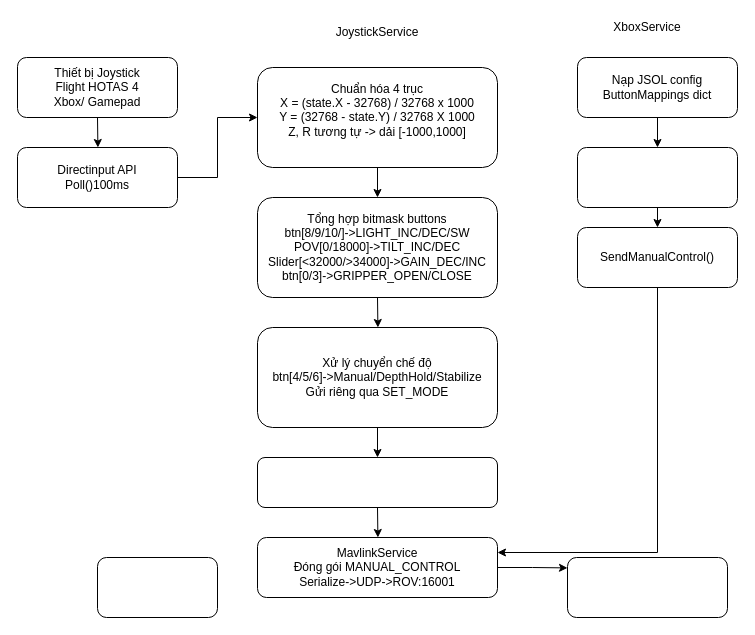
This 755x635 diagram has some shape labels left out. The centre of each missing label's shape, as x and y in pixels:
"Chu kỳ 100ms =10 Hz polling" goes at point 157,587.
"ROV control_loop() ->mixing matrix ->ESC / PWM" goes at point 647,587.
"SendManualControl()+SendSetModel()" goes at point 377,482.
"Tra cứu mapping nút -> chức năng" goes at point 657,177.
